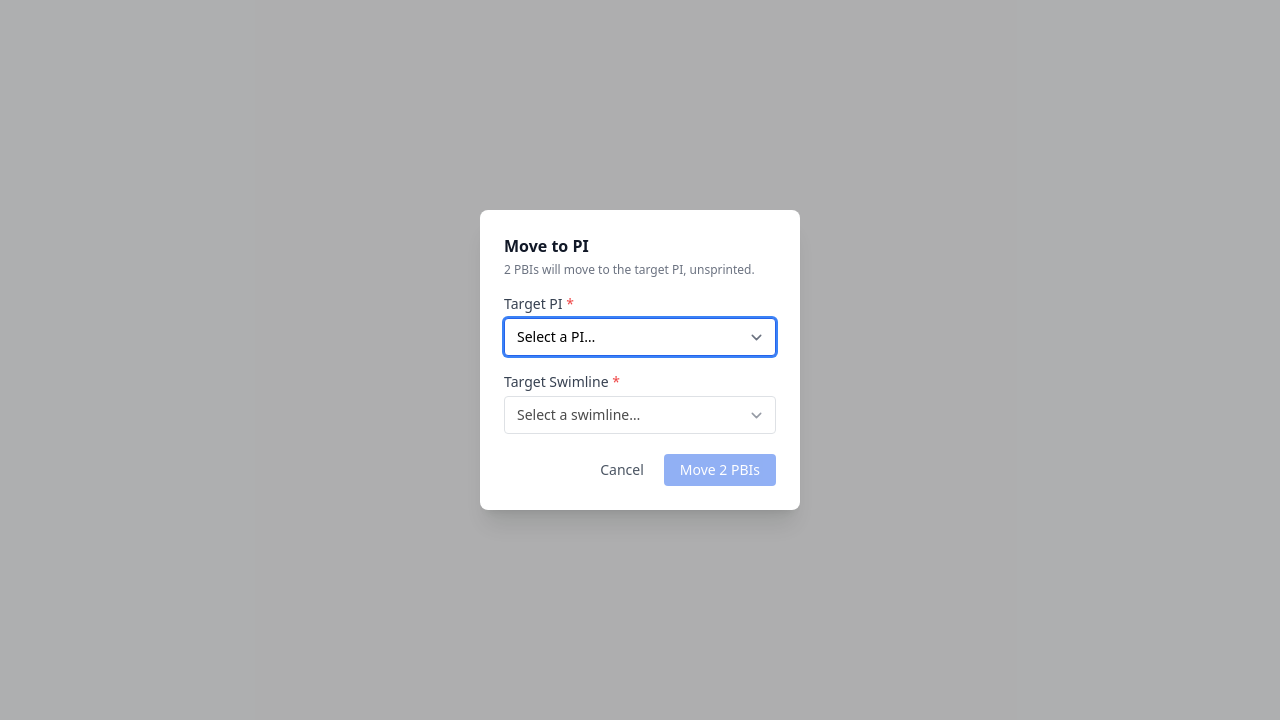
Test case: SplitFeatureModal › submit button is disabled until both PI and swimlane are chosen
Check: the button "Move 2 PBIs" is disabled, box [664,454,776,486]
Select "PI 2" in the dropdown labelled "Target PI *" at (640, 337), box [504,318,776,356]
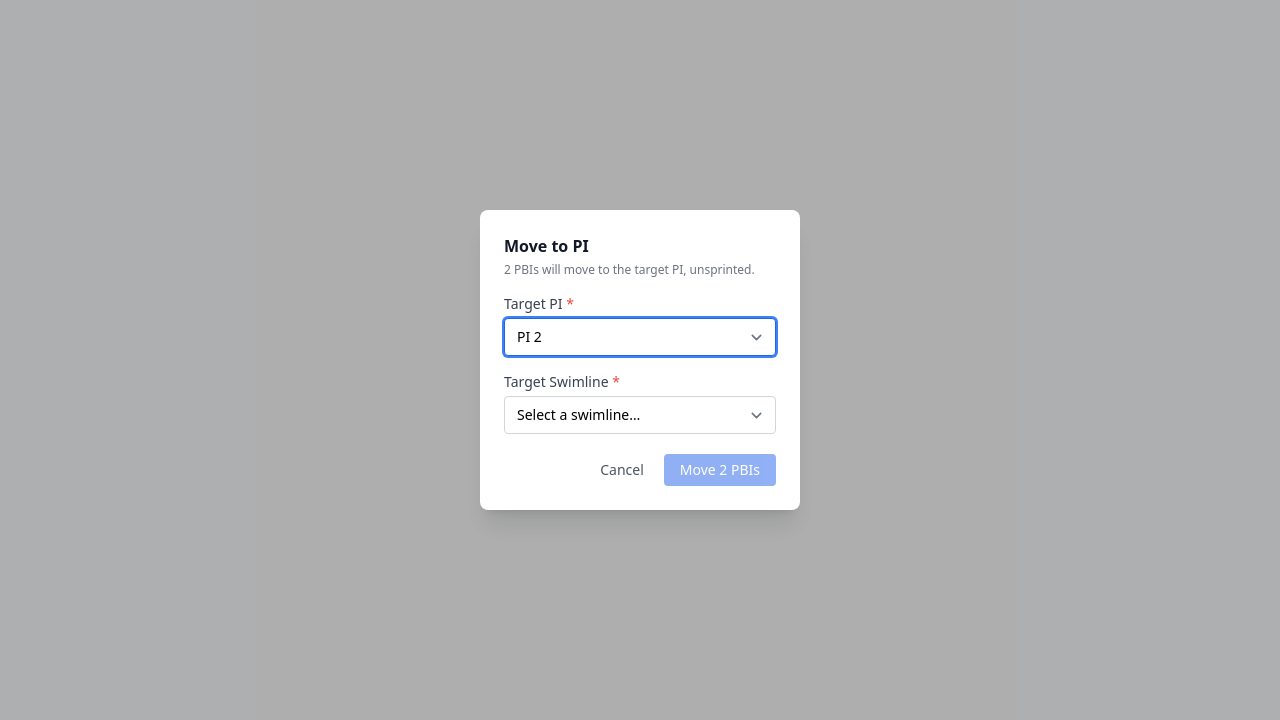
Check: the button "Move 2 PBIs" is disabled, box [664,454,776,486]
Select "Team Beta" in the dropdown labelled "Target Swimline *" at (640, 415), box [504,396,776,434]
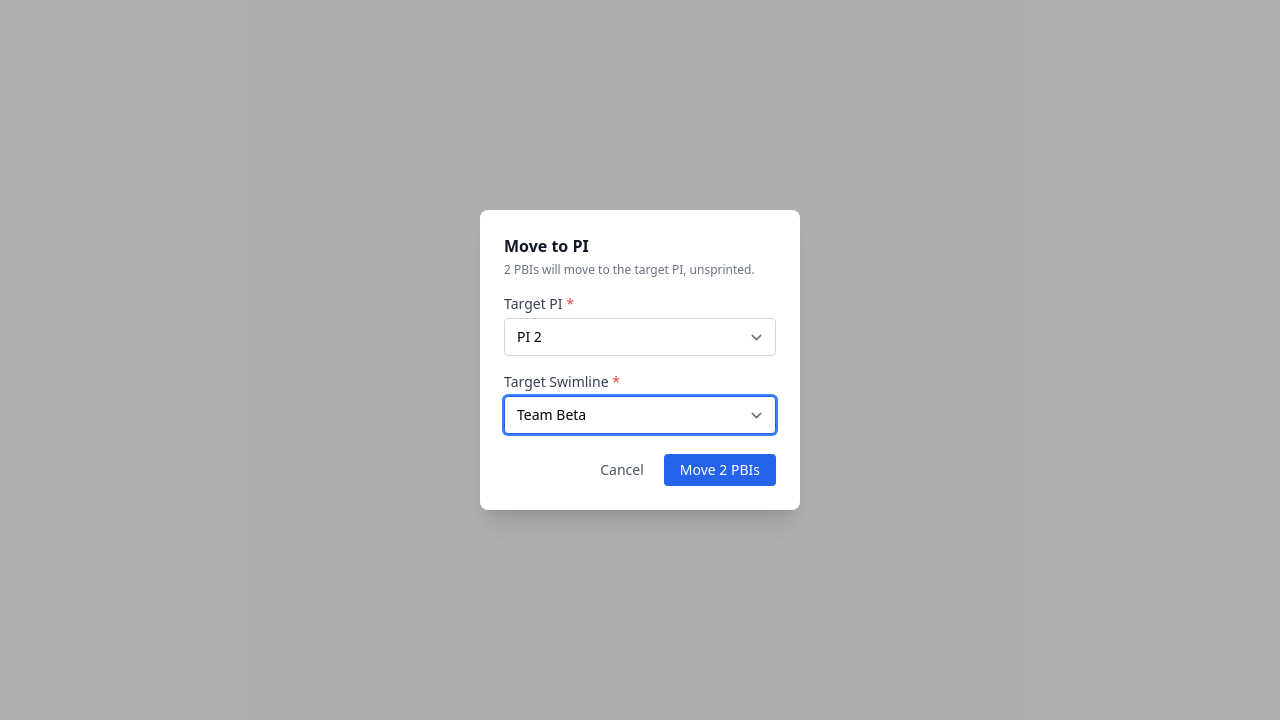
Check: the button "Move 2 PBIs" is enabled, box [664,454,776,486]
